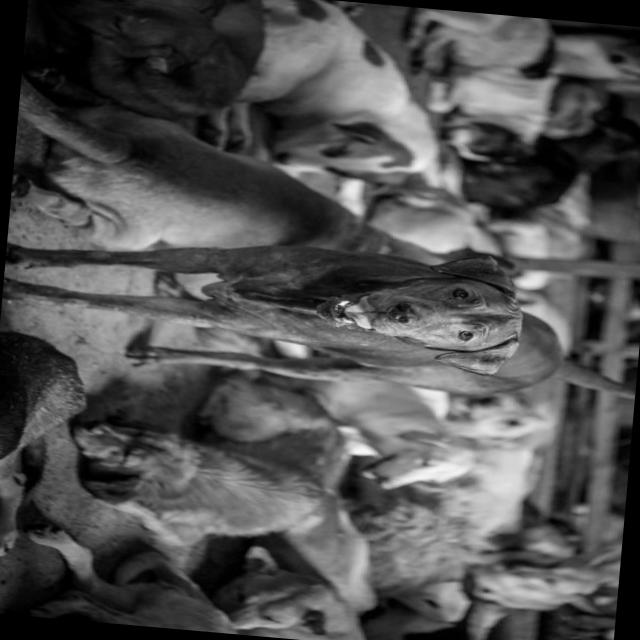laying down: (62, 345, 362, 561), (222, 0, 459, 196), (38, 0, 273, 128), (392, 6, 557, 172)
